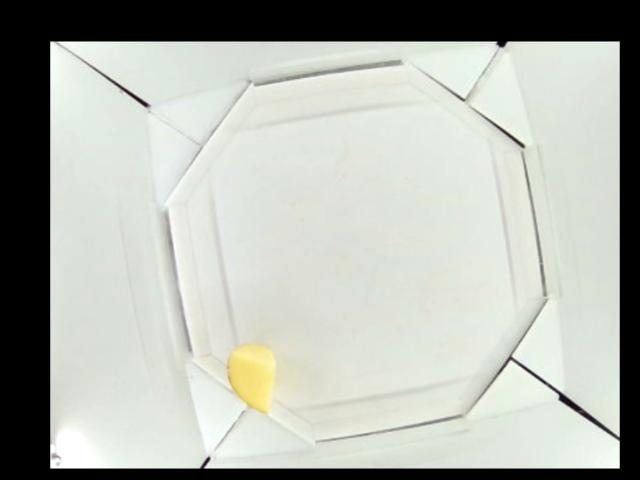Potato: (225, 343, 276, 413)
